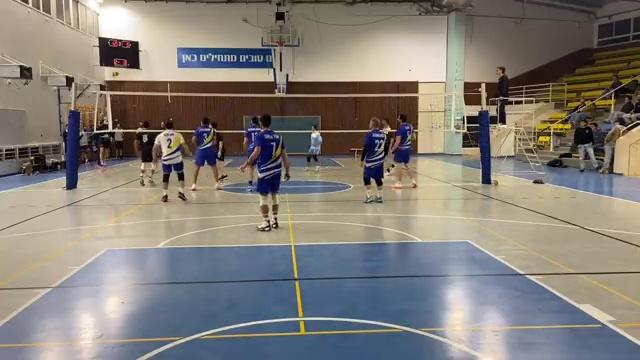ball: (111, 70, 123, 79)
